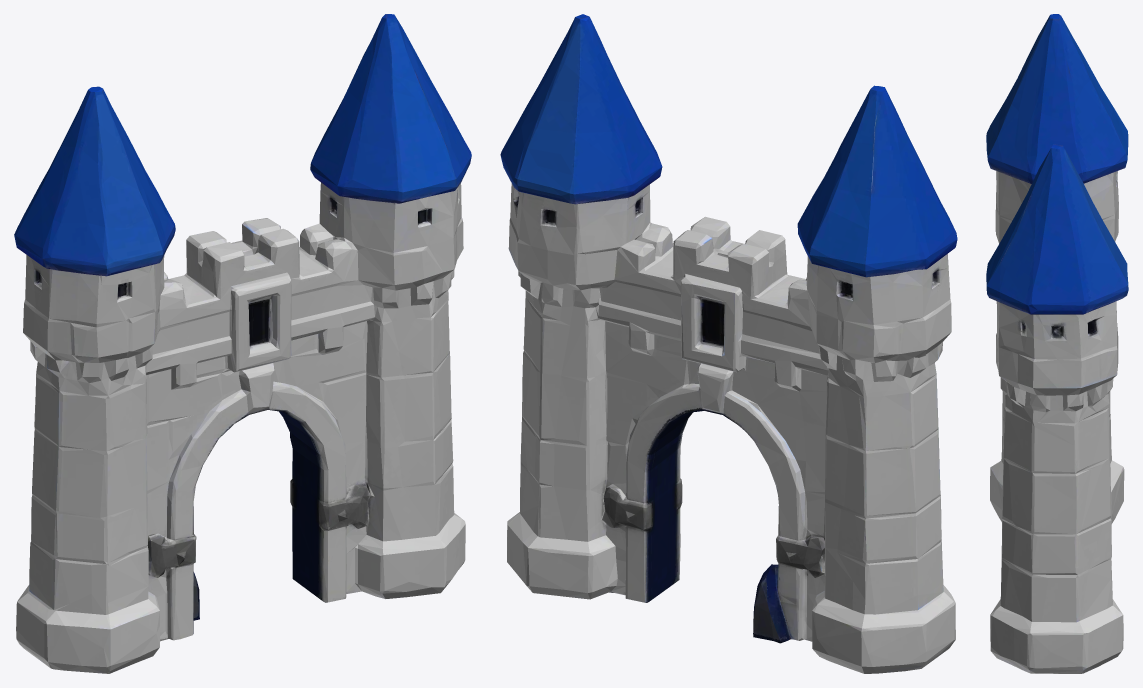
The model's file is castle_gate_tower.glb.
3 views of the same model, side by side, from view 1: azimuth 30°, elevation 25°; view 2: azimuth 150°, elevation 25°; view 3: azimuth 270°, elevation 25° (orthographic). The views are drawn at different scales.
Size of the model in its own units: 1.59 by 1.97 by 0.5041.
1 material, 1 textured.
